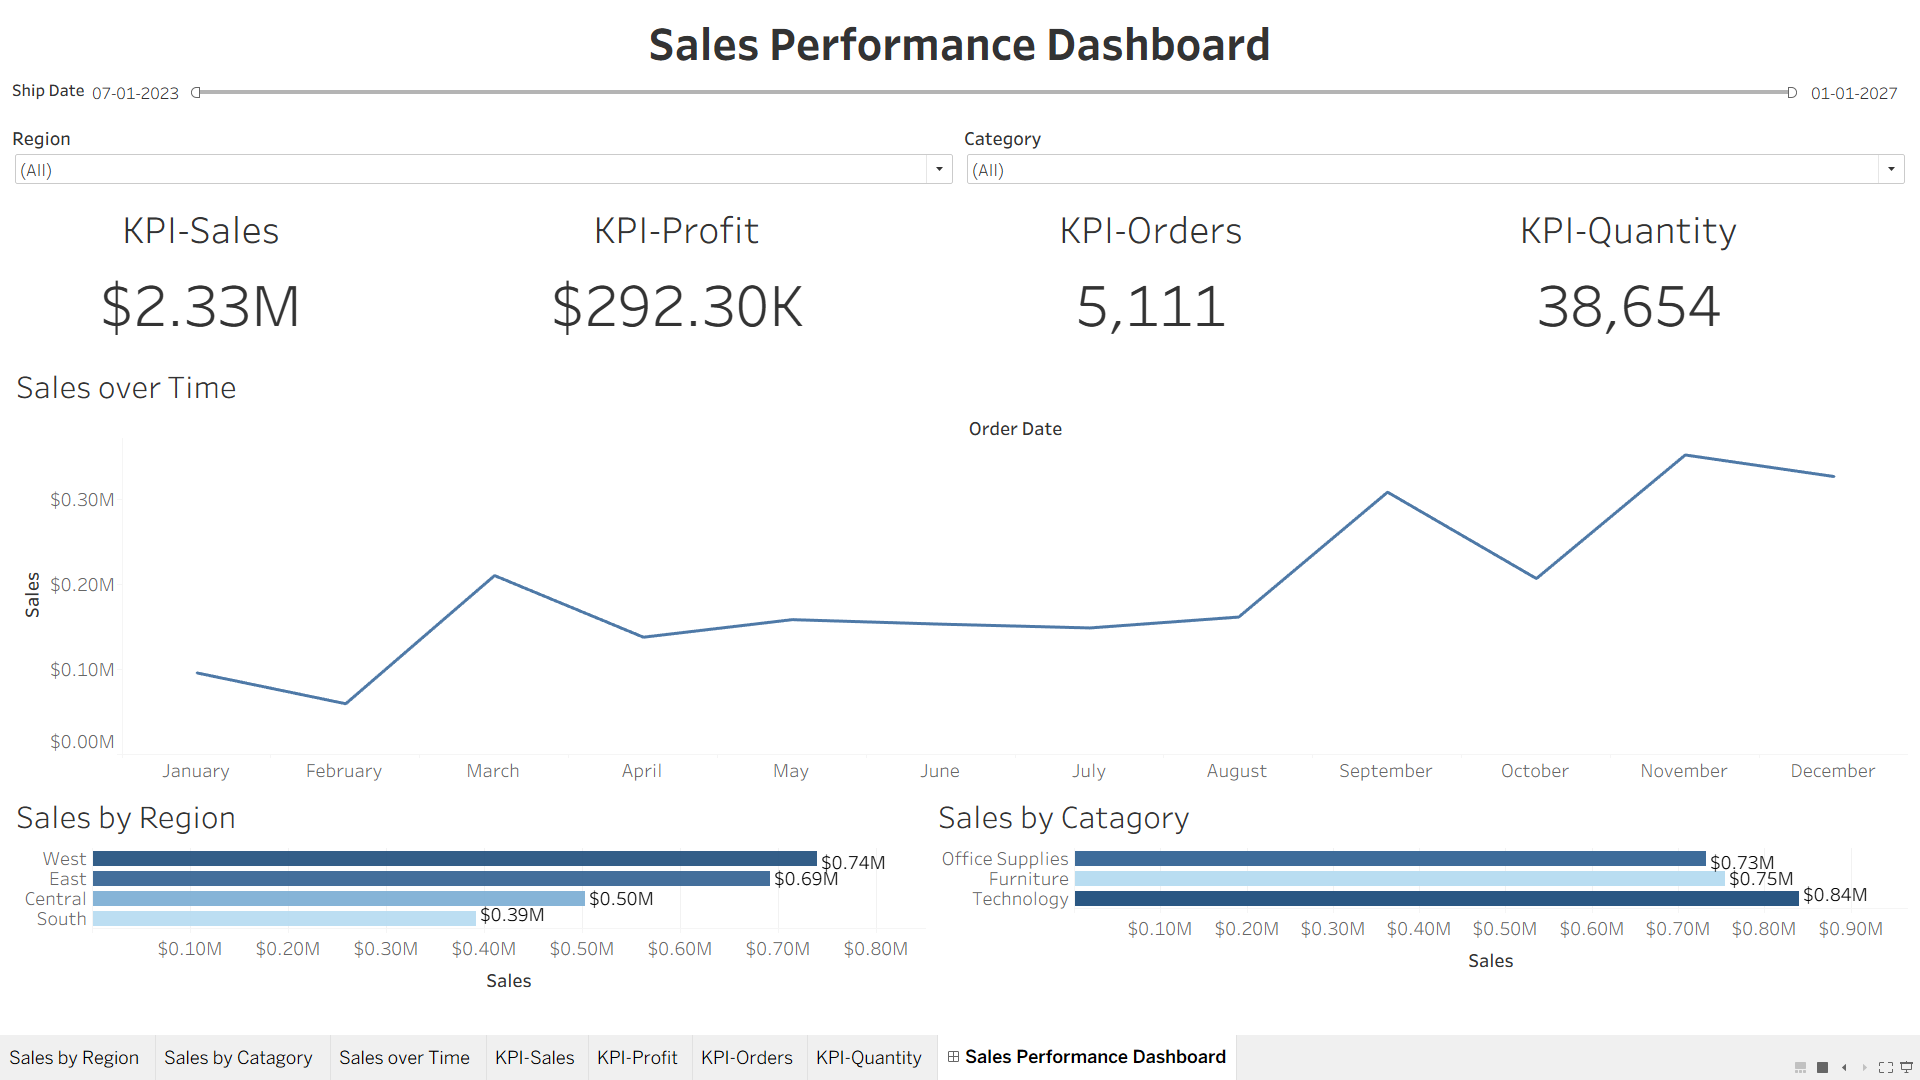

What the dashboard file says about the page in this screenshot:
{"tool":"tableau","page":{"name":"Sales Performance Dashboard","canvas":[1000,1000],"units":"permille","ordinal":0},"visuals":[{"type":"title","box":[5,8.9,989.9,75.6]},{"type":"filter","title":"Sales over Time","param":"[federated.0k5lg7b1i2wy1l1gqv2mb1i7kvae].[none:Ship Date:qk]","box":[5,84.5,989.9,42.5]},{"type":"filter","title":"Sales by Region","param":"[federated.0k5lg7b1i2wy1l1gqv2mb1i7kvae].[none:Region:nk]","box":[5,126.7,495,72.2]},{"type":"filter","title":"Sales by Catagory","param":"[federated.0k5lg7b1i2wy1l1gqv2mb1i7kvae].[none:Category:nk]","box":[500,126.7,495,72.2]},{"type":"worksheet","title":"KPI-Sales","mark":"Automatic","box":[5,198.9,247.5,153.3]},{"type":"worksheet","title":"KPI-Profit","mark":"Automatic","box":[252.5,198.9,247.5,153.3]},{"type":"worksheet","title":"KPI-Orders","mark":"Automatic","box":[500,198.9,247.5,153.3]},{"type":"worksheet","title":"KPI-Quantity","mark":"Automatic","box":[747.5,198.9,247.5,153.3]},{"type":"worksheet","title":"Sales over Time","mark":"Line","rows":["Sales"],"cols":["Order Date"],"box":[5,352,989.9,410.2]},{"type":"worksheet","title":"Sales by Region","mark":"Bar","rows":["Region"],"cols":["Sales"],"box":[5,762.2,476.1,228.9]},{"type":"worksheet","title":"Sales by Catagory","mark":"Automatic","rows":["Category"],"cols":["Sales"],"box":[481.1,762.2,513.9,228.9]}]}

Visuals, with their boxes on the dashboard's canvas, which has no fixed pixel size, in thousandths of its width and height (x1, y1, x2, y2). These are canvas units, not pixel positions in the 1920x1080 screenshot, which may show the page scaled, cropped or inside an application window:
title: locate(5, 9, 995, 84)
"Sales over Time" filter: locate(5, 84, 995, 127)
"Sales by Region" filter: locate(5, 127, 500, 199)
"Sales by Catagory" filter: locate(500, 127, 995, 199)
"KPI-Sales" worksheet: locate(5, 199, 252, 352)
"KPI-Profit" worksheet: locate(252, 199, 500, 352)
"KPI-Orders" worksheet: locate(500, 199, 748, 352)
"KPI-Quantity" worksheet: locate(748, 199, 995, 352)
"Sales over Time" worksheet (Line marks): locate(5, 352, 995, 762)
"Sales by Region" worksheet (Bar marks): locate(5, 762, 481, 991)
"Sales by Catagory" worksheet: locate(481, 762, 995, 991)
